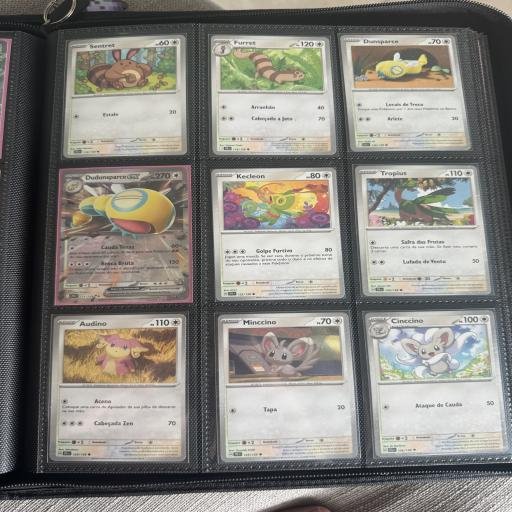card: (365, 303, 510, 462), (218, 311, 359, 462), (49, 314, 186, 461), (355, 159, 491, 302), (54, 167, 191, 304), (211, 165, 345, 302), (339, 24, 471, 161), (56, 35, 192, 162), (210, 33, 337, 157)
